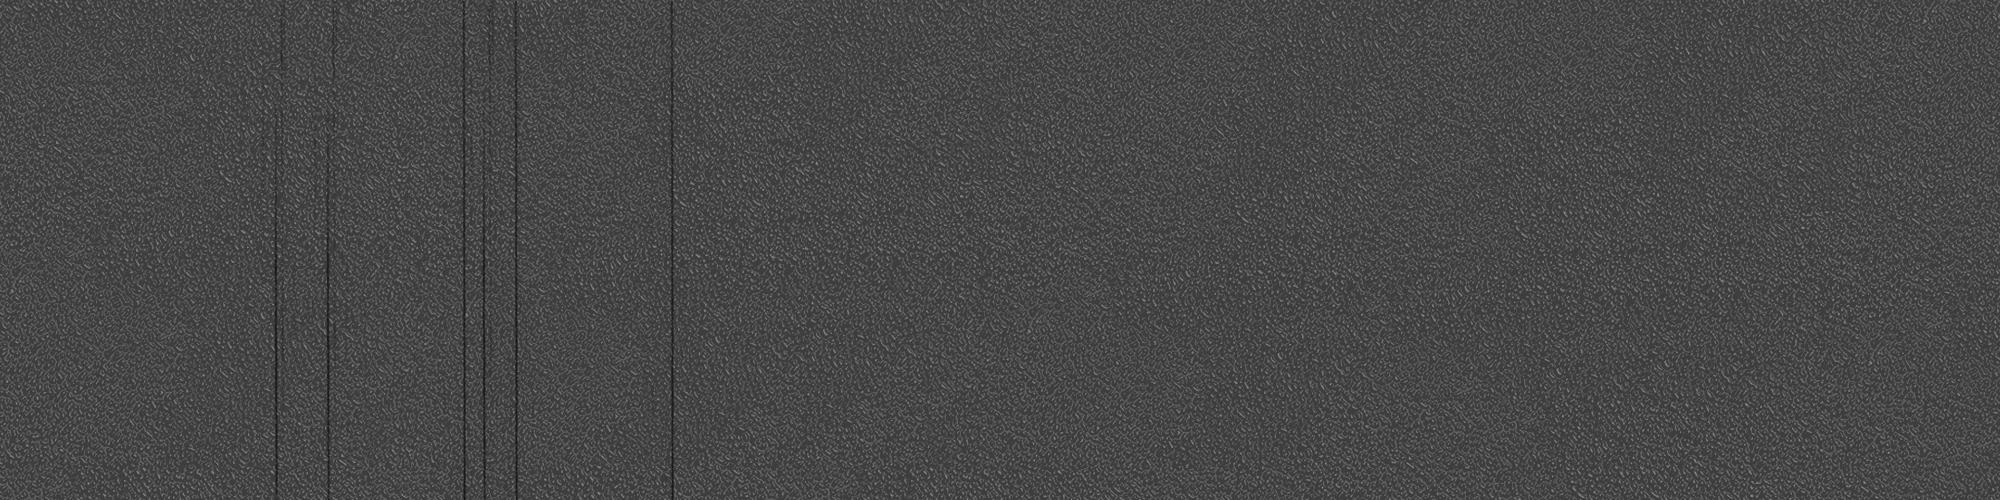DieDrag: (265, 4, 344, 500), (452, 3, 528, 500), (657, 5, 687, 500)
